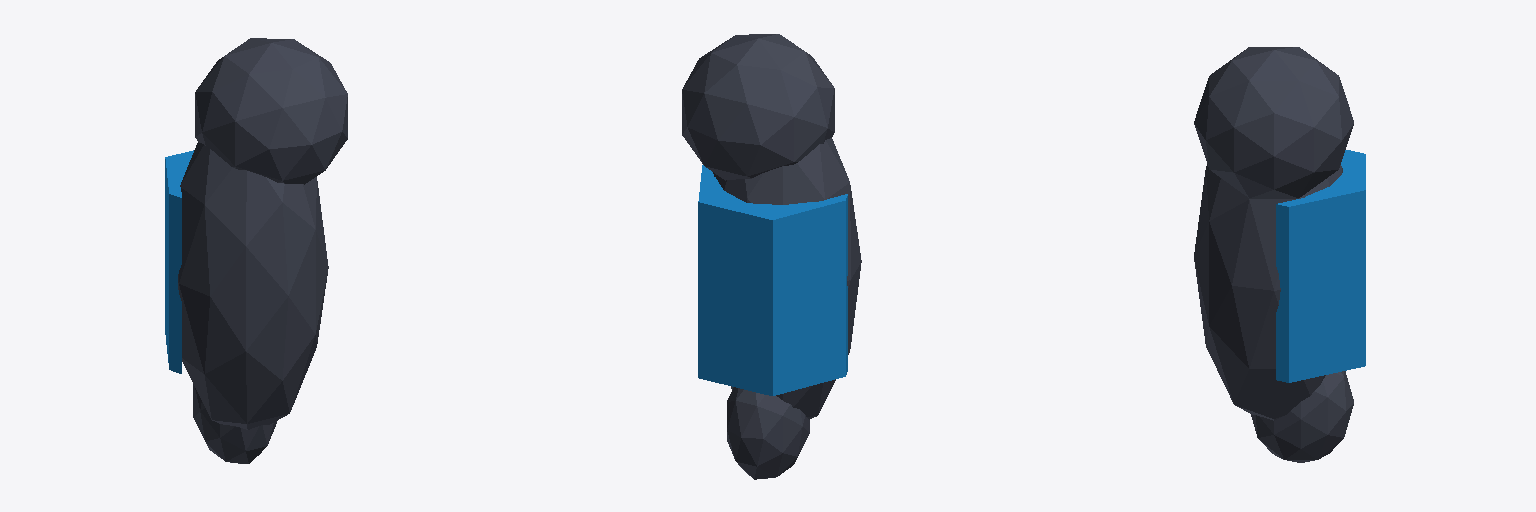
File: upperLeg.obj
3 views of the same model, side by side, from view 1: azimuth 30°, elevation 25°; view 2: azimuth 150°, elevation 25°; view 3: azimuth 270°, elevation 25° (orthographic).
Bounding box in the file's own units: 0.7091 × 1.75 × 0.6437.